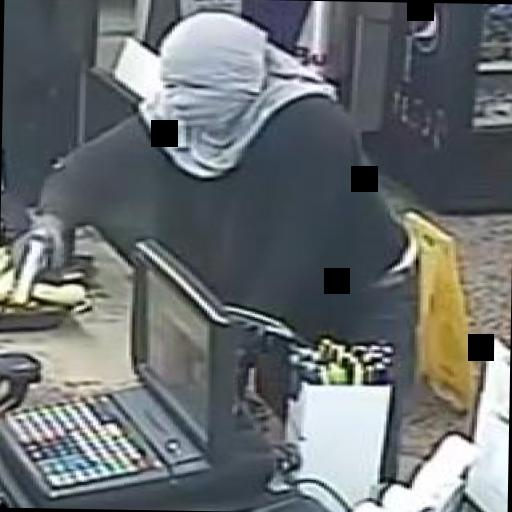Handgun: (2, 222, 70, 307)
